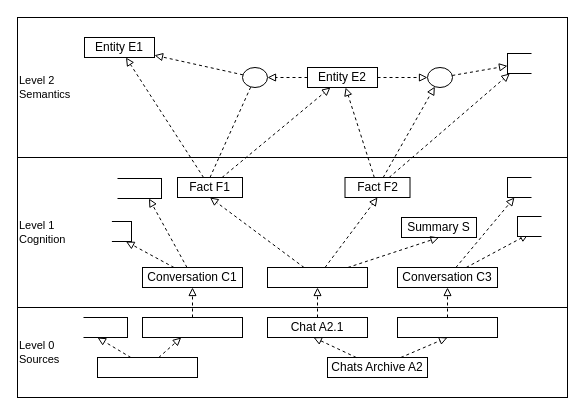
The diagram is 585 pixels wide and 415 high, and some of its shapes have lost their labels. Here are the shapes that lost their labels. From the top down, the box of each, then its label:
(242, 66, 268, 88): R1
(426, 66, 452, 88): R2
(266, 266, 368, 288): Conversation C2
(142, 316, 242, 338): Email A1.1
(396, 316, 498, 338): Audio A2.2
(96, 356, 198, 378): Emails Archive A1
